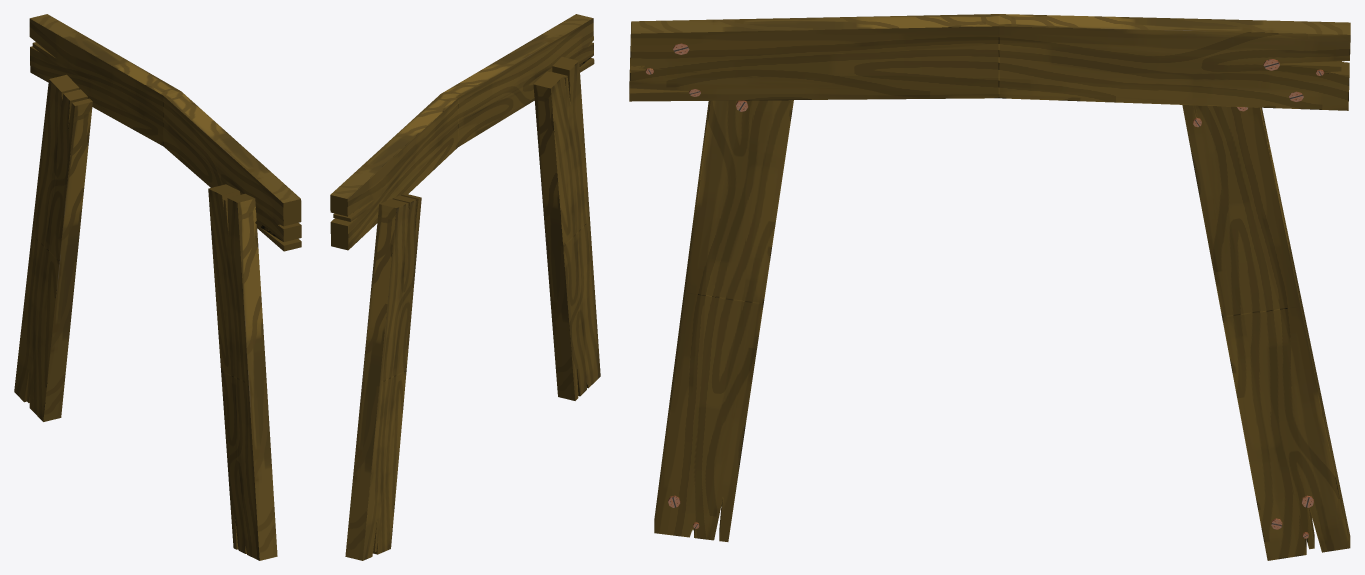
File: UnbarredGate.fbx
The picture shows the model from 3 angles, left to right: view 1: azimuth 30°, elevation 25°; view 2: azimuth 150°, elevation 25°; view 3: azimuth 270°, elevation 25°; orthographic projection. The views are drawn at different scales.
Visible parts, largest first — view 1: Gate; view 2: Gate; view 3: Gate.
Boxes of the visible parts, x1,y1,x2,y2 form: Gate: [14, 14, 301, 560]; Gate: [330, 14, 600, 560]; Gate: [629, 14, 1350, 560].
Size of the model in its own units: 79.17 by 679 by 804.
